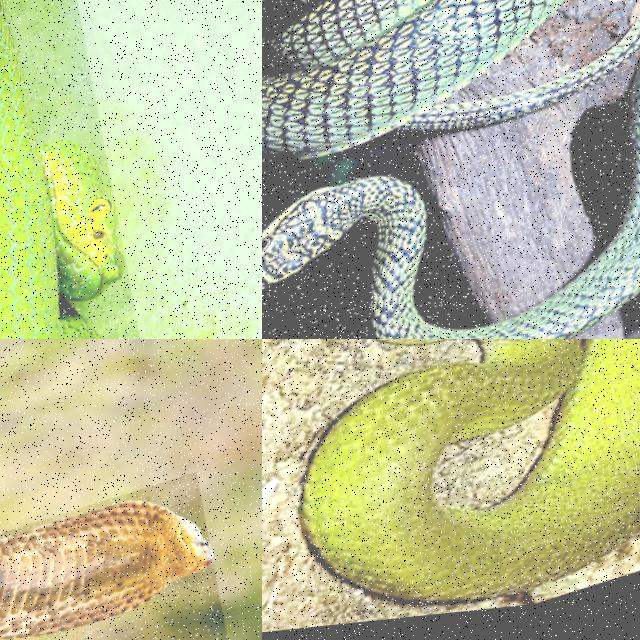Chrysopelea ornata: (262, 62, 639, 338)
Ophiophagus hannah: (0, 501, 212, 638)
Trimeresurus: (301, 339, 639, 602)
Trimeresurus macrops: (0, 10, 118, 338)
snake: (262, 62, 639, 338), (301, 339, 639, 602), (0, 10, 118, 338), (0, 501, 212, 638)
